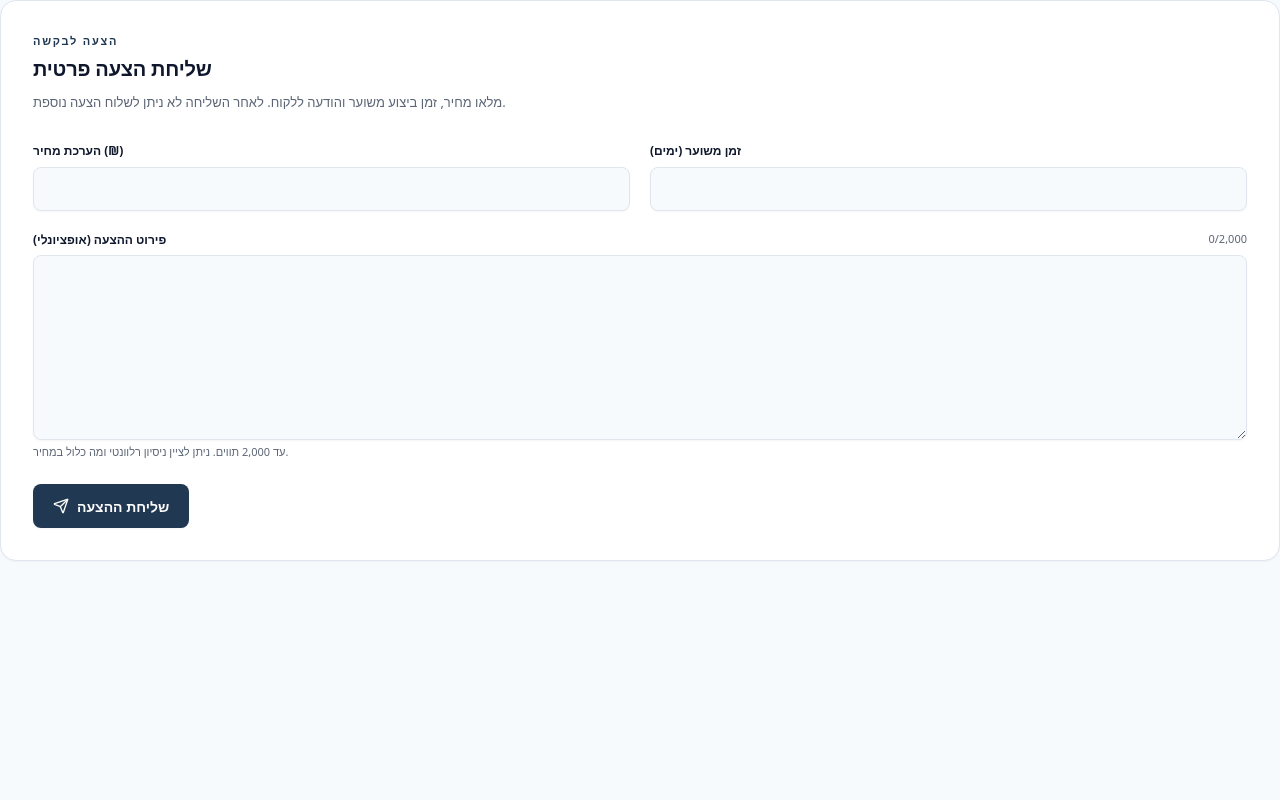
it: SupplierOfferPanel › does not submit an invalid price -25
This screenshot has width=1280, height=800.
Type "3" into the number field labelled "זמן משוער (ימים)". click: x=948, y=189
box: [650,167,1247,211]
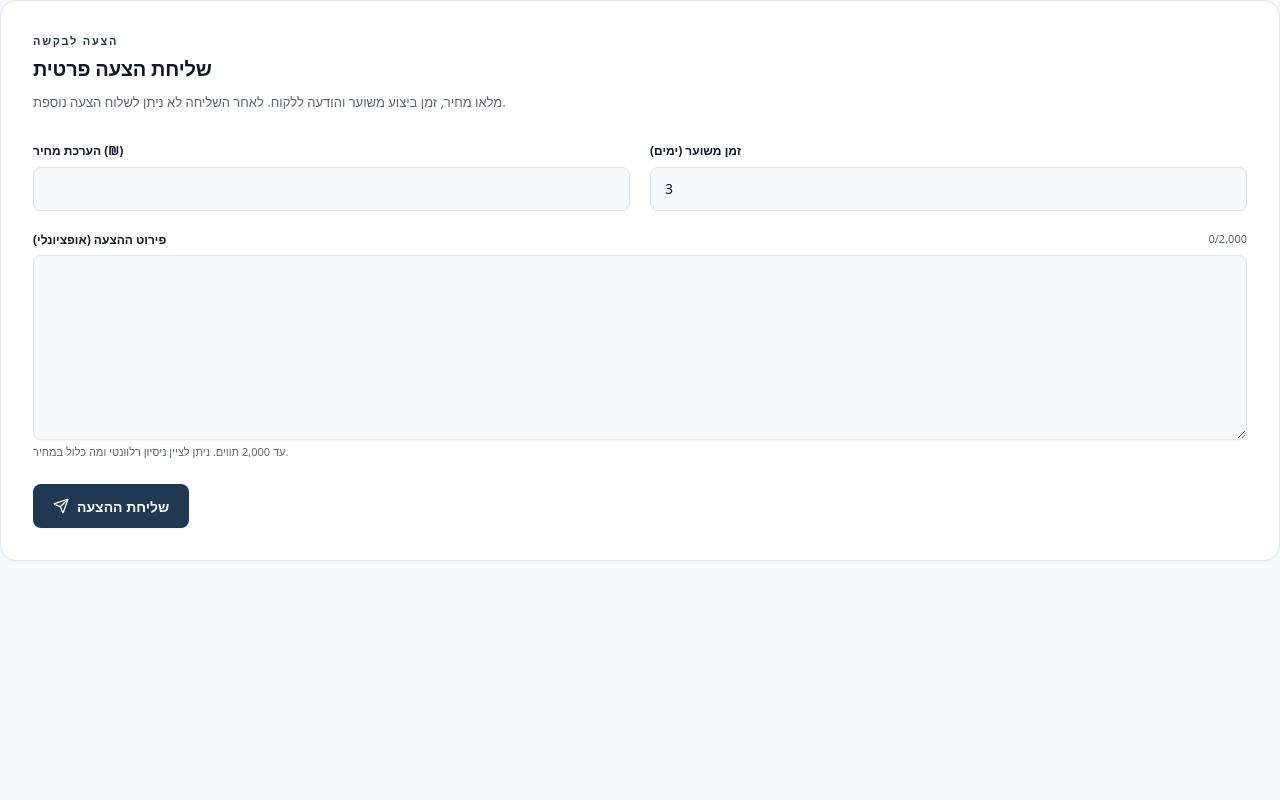
Type "פירוט מספק של ההצעה לביצוע העבודה המבוקשת." into the text box labelled "פירוט ההצעה (אופציונלי)". click: x=640, y=347
box: [33,255,1247,440]
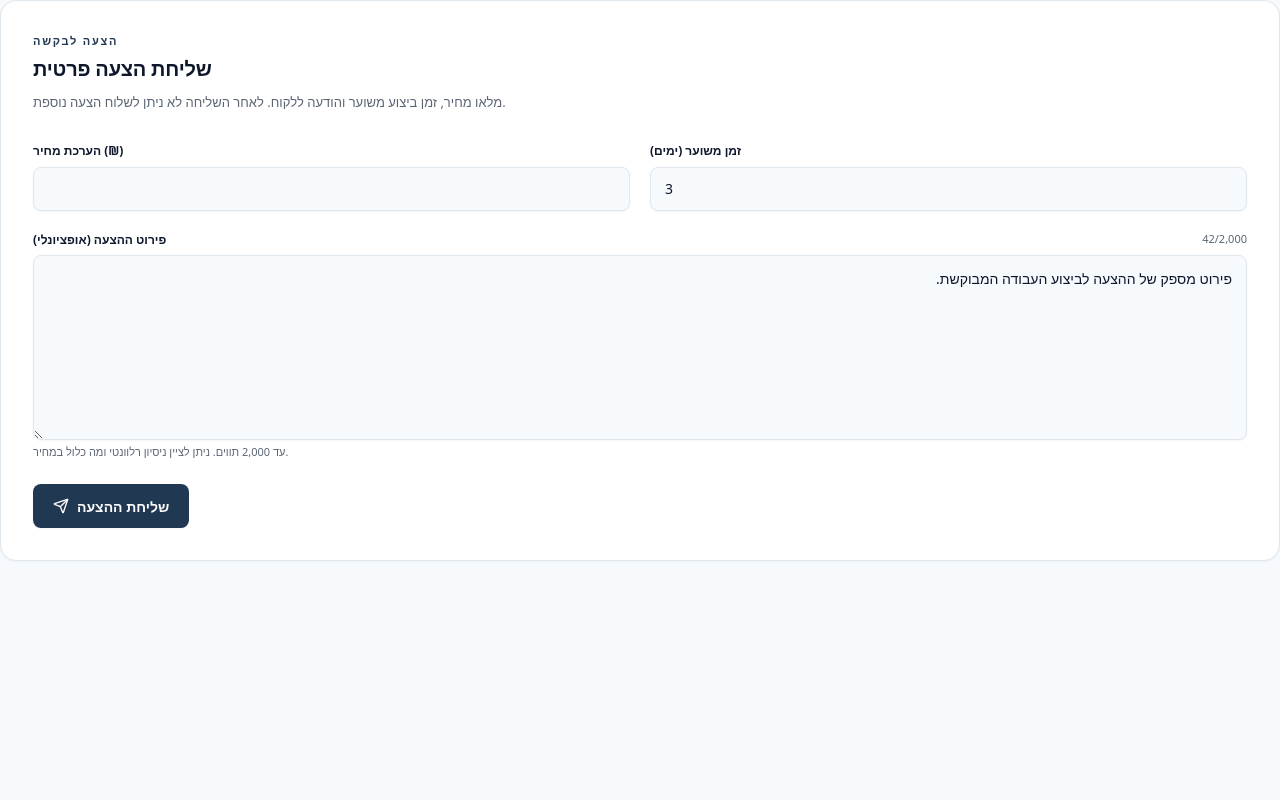
Type "-25" into the number field labelled "הערכת מחיר (₪)". click: x=332, y=189
box: [33,167,630,211]
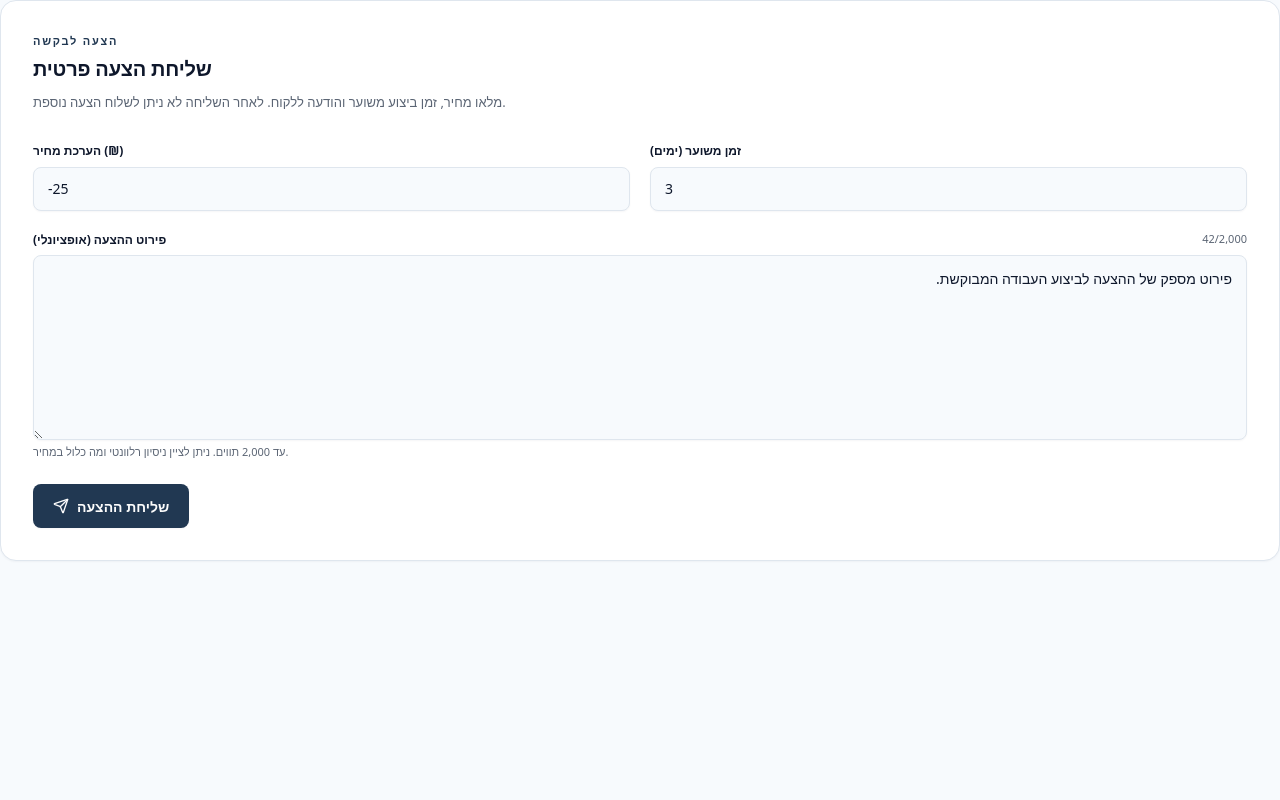
Click the button "שליחת ההצעה". click: x=111, y=506
box: [33,484,189,528]
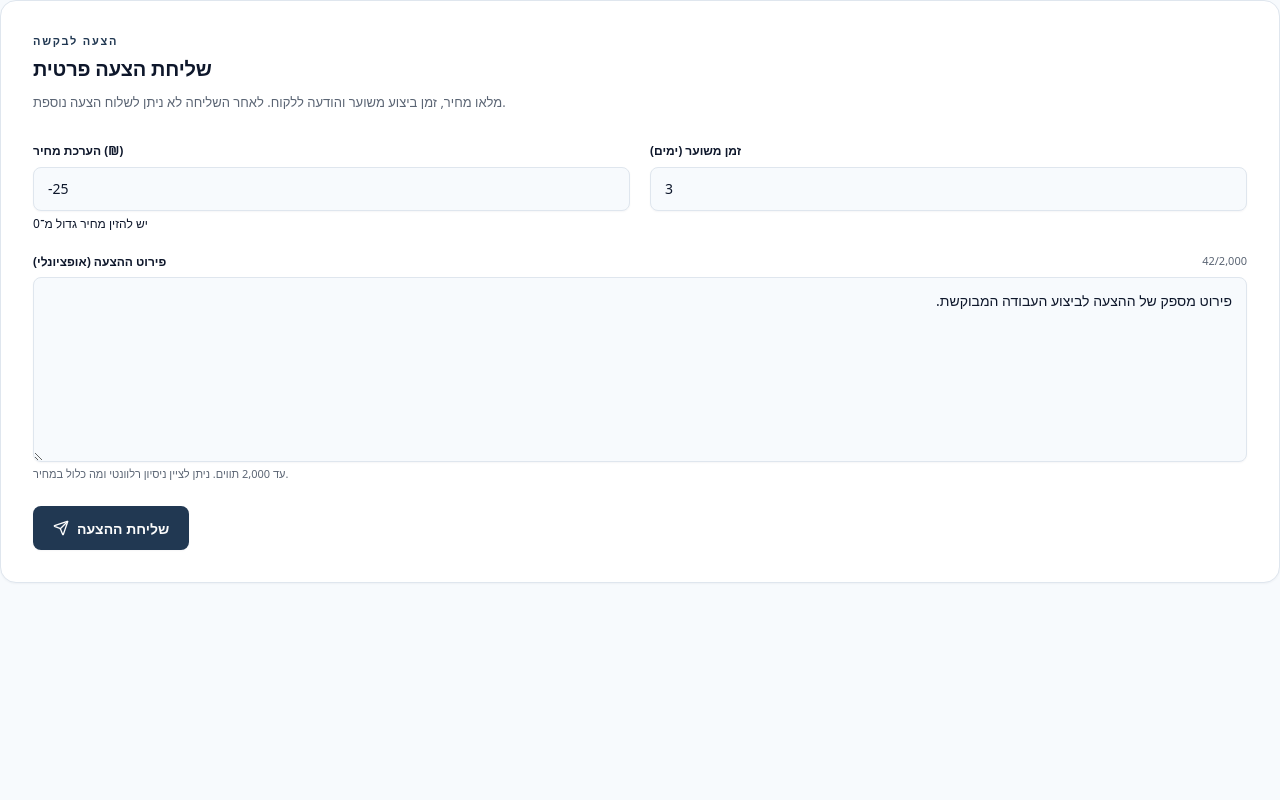
Check: the text "יש להזין מחיר גדול מ־0" is shown, box [33,215,148,232]
